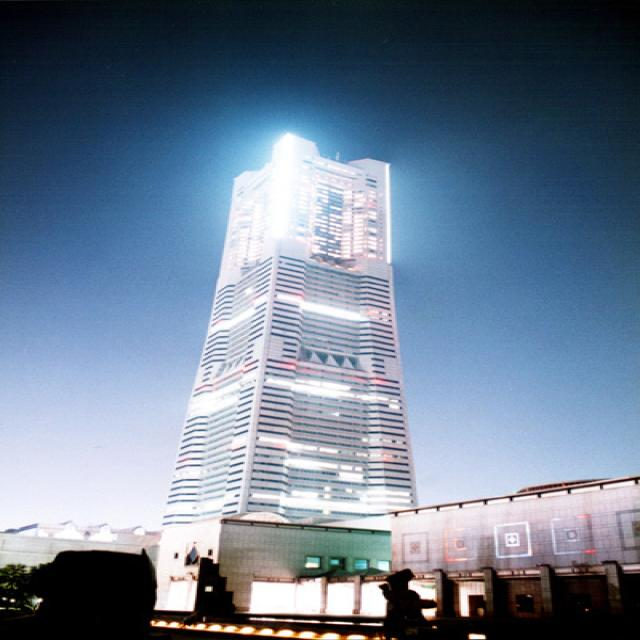building: (161, 131, 422, 640), (393, 472, 640, 640)
